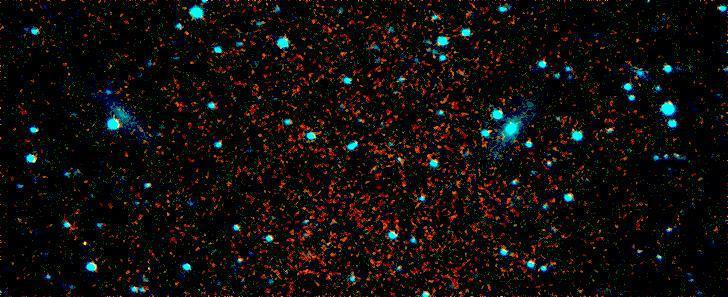star: (71, 233, 101, 263)
